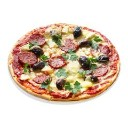pepperonipizza: (8, 23, 119, 99)
